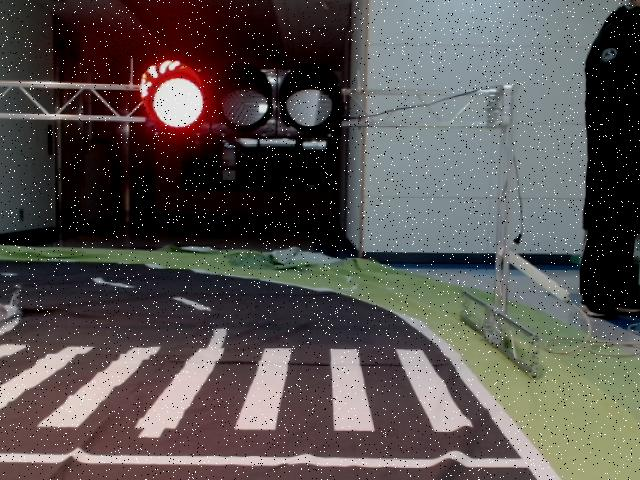crosswalk: (0, 343, 476, 433)
traffic light-red-: (140, 61, 342, 139)
